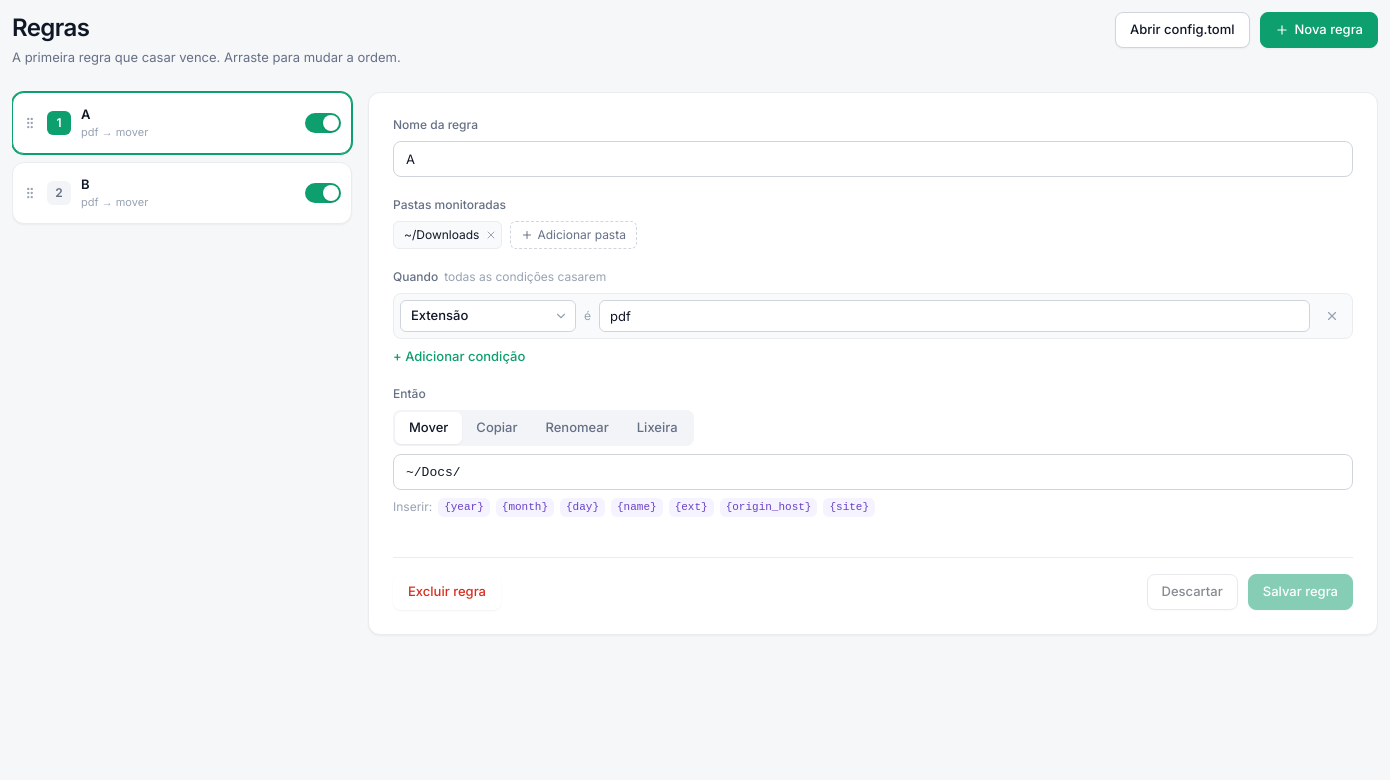
Test: Rules › toggle pauses the rule
This screenshot has width=1390, height=780.
Click the switch named "Pausar B" at {"x": 323, "y": 192}, box [305,182,341,202]
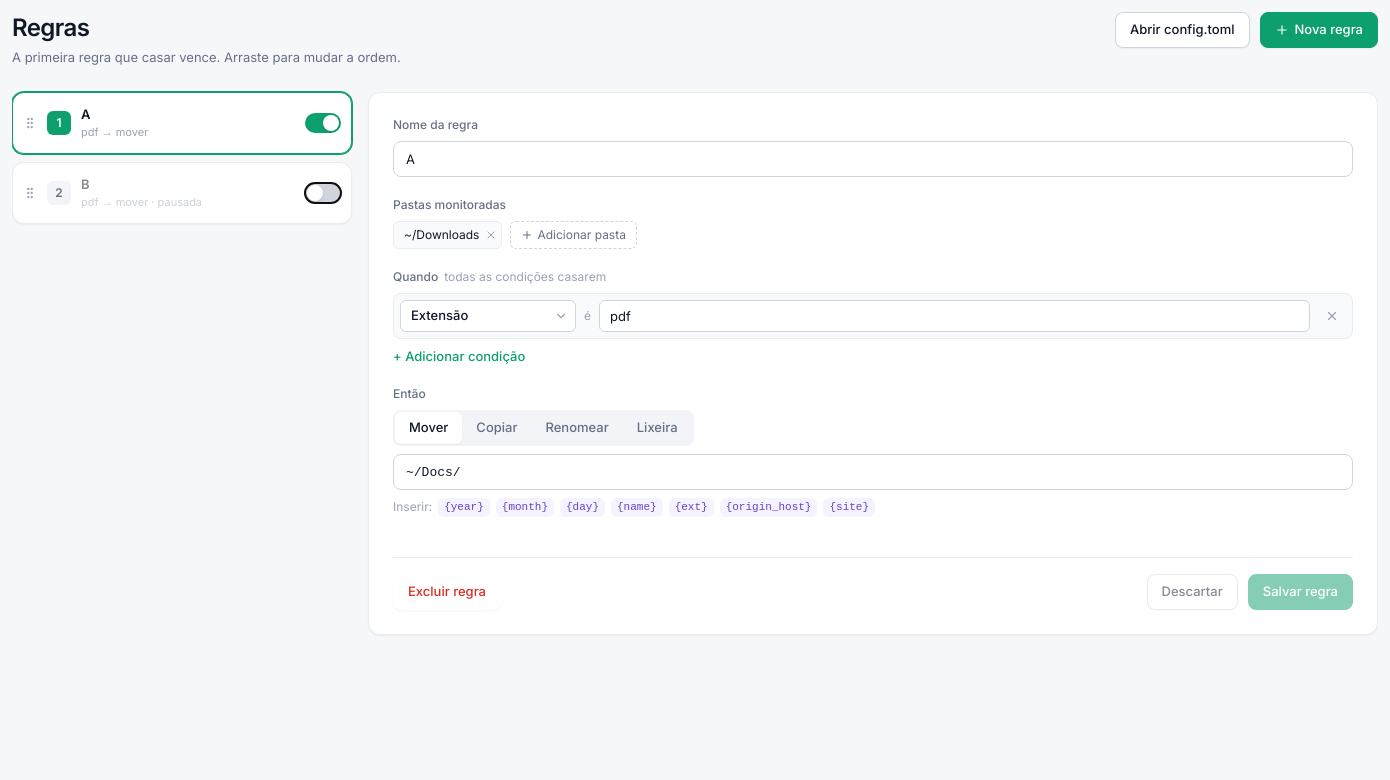
Now the text "pdf → mover · pausada" is shown, box [81,195,202,209]
